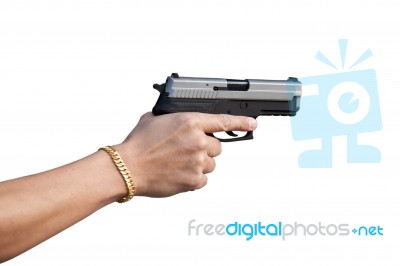pistol: (110, 17, 332, 209)
